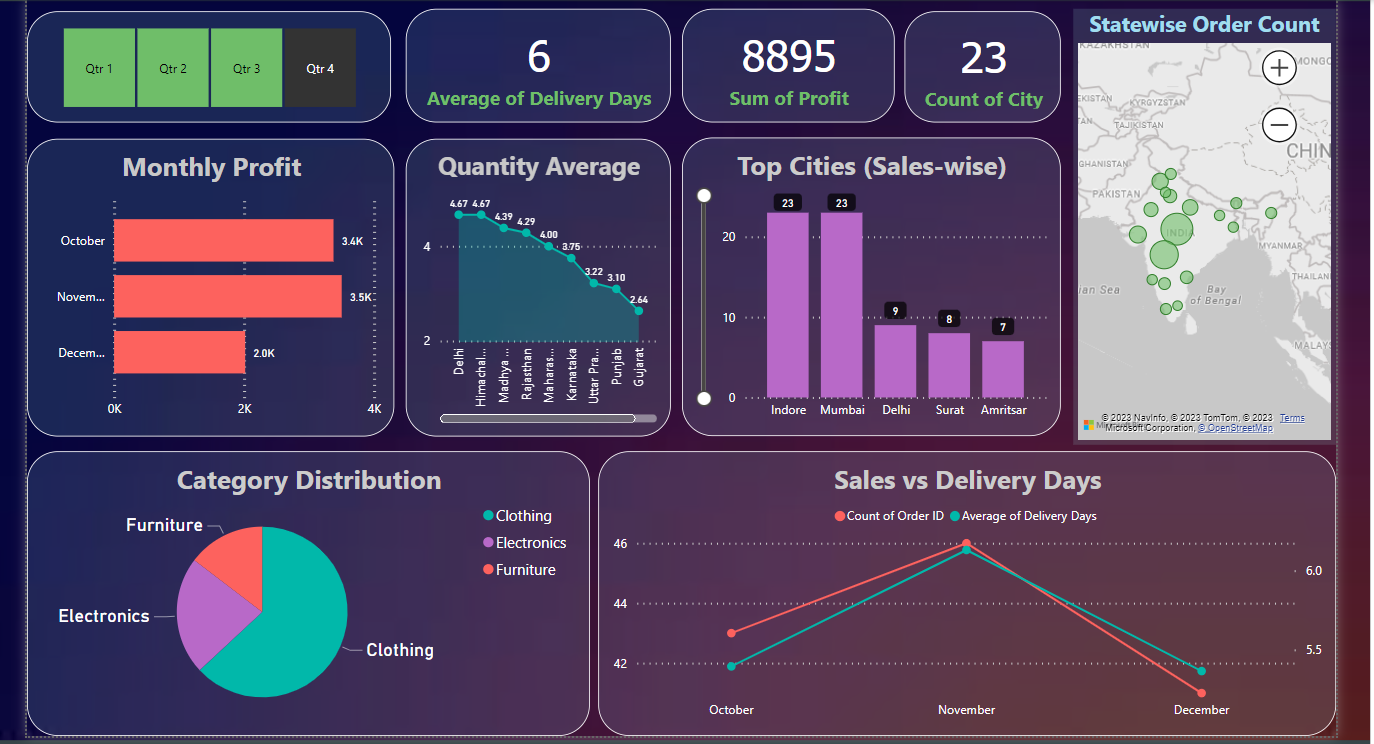

The page's visual inventory and layout, read from the dashboard file:
{"tool":"powerbi","page":{"name":"Page 1","canvas":[1280,720],"ordinal":0},"visuals":[{"type":"map","title":"Statewise Order Count","fields":{"Category":["sales.State"],"Size":["CountNonNull(sales.Order ID)"]},"box":[1023.2,8.6,256.7,426.6],"z":0},{"type":"slicer","fields":{"Values":["sales.Order Date.Variation.Date Hierarchy.Quarter"]},"box":[0,11,355.7,108.8],"z":1000},{"type":"lineChart","title":"Sales vs Delivery Days","fields":{"Category":["sales.Order Date.Variation.Date Hierarchy.Month"],"Y2":["Avg(sales.Delivery Days)"],"Y":["CountNonNull(sales.Order ID)"]},"box":[558.6,441.3,721.2,278.7],"z":2000},{"type":"pieChart","title":"Category Distribution","fields":{"Y":["CountNonNull(sales.Order ID)"],"Category":["sales.Category"]},"box":[0,441.3,550.1,278.7],"z":3000},{"type":"card","fields":{"Values":["Avg(sales.Delivery Days)"]},"box":[370.4,8.6,259.2,111.2],"z":4000},{"type":"card","fields":{"Values":["Count(sales.City)"]},"box":[858.1,11,152.8,108.8],"z":5000},{"type":"card","fields":{"Values":["Sum(sales.Profit)"]},"box":[640.5,8.6,207.8,111.2],"z":6000},{"type":"lineStackedColumnComboChart","title":"Top Cities (Sales-wise)","fields":{"Category":["sales.City"],"Y":["CountNonNull(sales.Order ID)"]},"box":[640.5,134.5,370.4,292.2],"z":7000},{"type":"barChart","title":"Monthly Profit","fields":{"Category":["sales.Order Date.Variation.Date Hierarchy.Month"],"Y":["Sum(sales.Profit)"]},"box":[0,135.7,359.4,290.9],"z":8000},{"type":"stackedAreaChart","title":"Quantity Average","fields":{"Category":["sales.State"],"Y":["Avg(sales.Quantity)"]},"box":[370.4,135.7,259.2,290.9],"z":9000}]}

Visuals, with their boxes in screenshot pixels (x1, y1, x2, y2):
"Statewise Order Count" map: [x1=1065, y1=5, x2=1326, y2=440]
slicer - sales.Order Date.Variation.Date Hierarchy.Quarter: [x1=21, y1=8, x2=384, y2=119]
"Sales vs Delivery Days" lineChart: [x1=591, y1=446, x2=1326, y2=730]
"Category Distribution" pieChart: [x1=21, y1=446, x2=582, y2=730]
card - Avg(sales.Delivery Days): [x1=399, y1=5, x2=663, y2=119]
card - Count(sales.City): [x1=896, y1=8, x2=1052, y2=119]
card - Sum(sales.Profit): [x1=674, y1=5, x2=886, y2=119]
"Top Cities (Sales-wise)" lineStackedColumnComboChart: [x1=674, y1=134, x2=1052, y2=431]
"Monthly Profit" barChart: [x1=21, y1=135, x2=388, y2=431]
"Quantity Average" stackedAreaChart: [x1=399, y1=135, x2=663, y2=431]
